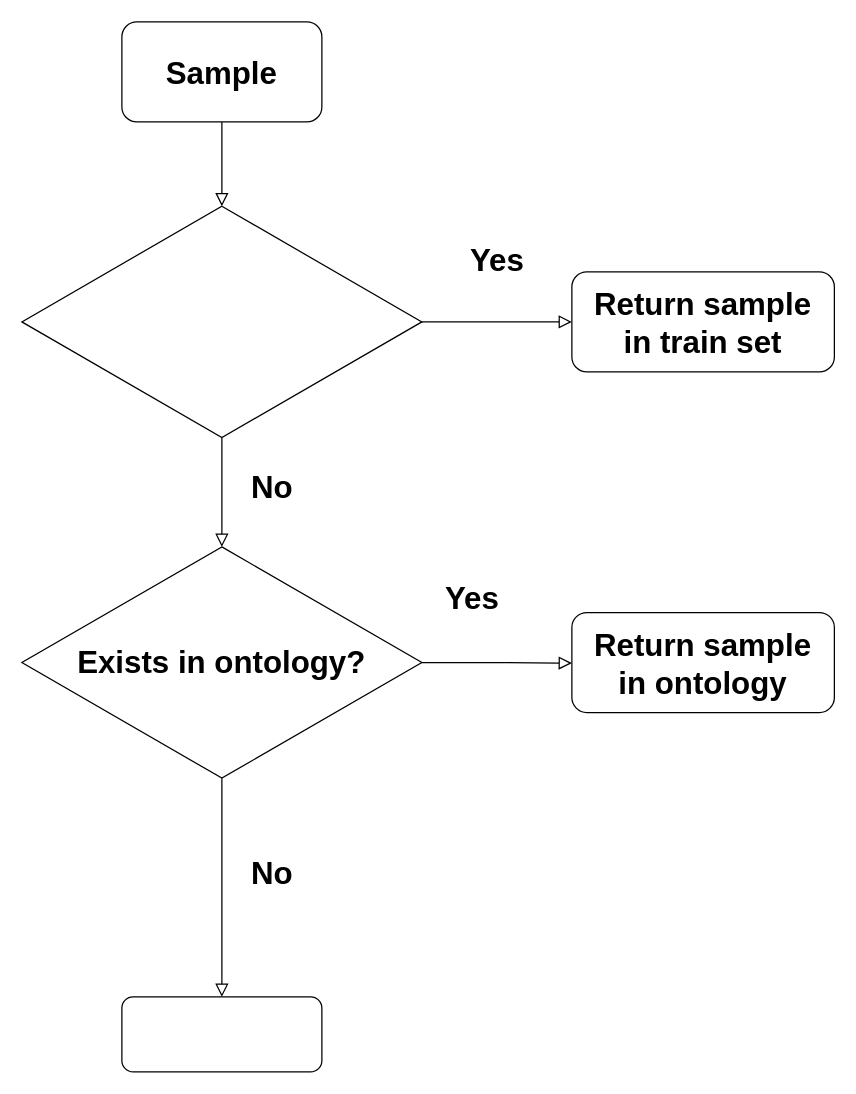
The diagram is 856 pixels wide and 1094 high, and some of its shapes have lost their labels. The shapes that lost their labels are listed below. From the top down, each one's centre as x and y in pixels, then its label:
[221,321]: Exists in train set?
[221,1034]: No return
